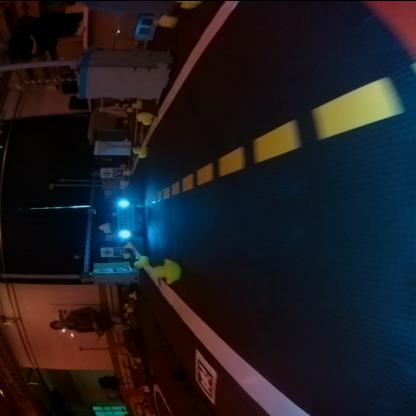Duckie: (150, 258, 180, 282), (135, 112, 151, 124), (134, 254, 148, 267), (132, 145, 147, 155), (179, 1, 200, 8), (98, 221, 110, 232), (130, 99, 142, 107)
Duckiebot: (111, 199, 142, 236)
Intersection sign: (96, 267, 110, 273), (100, 247, 110, 255)
QR code: (196, 350, 218, 402), (112, 265, 130, 271), (112, 167, 122, 176), (113, 247, 123, 254)
Signal sign: (100, 167, 110, 176)
